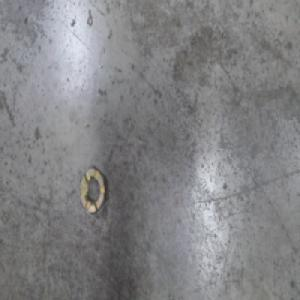Nut: (78, 165, 107, 215)
